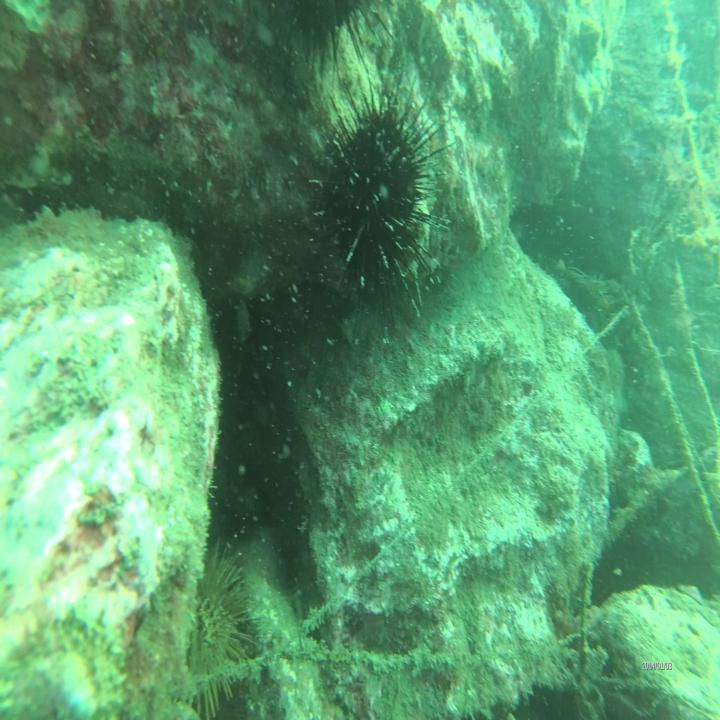echinus: (315, 99, 436, 308), (190, 548, 248, 702), (276, 0, 376, 58)
